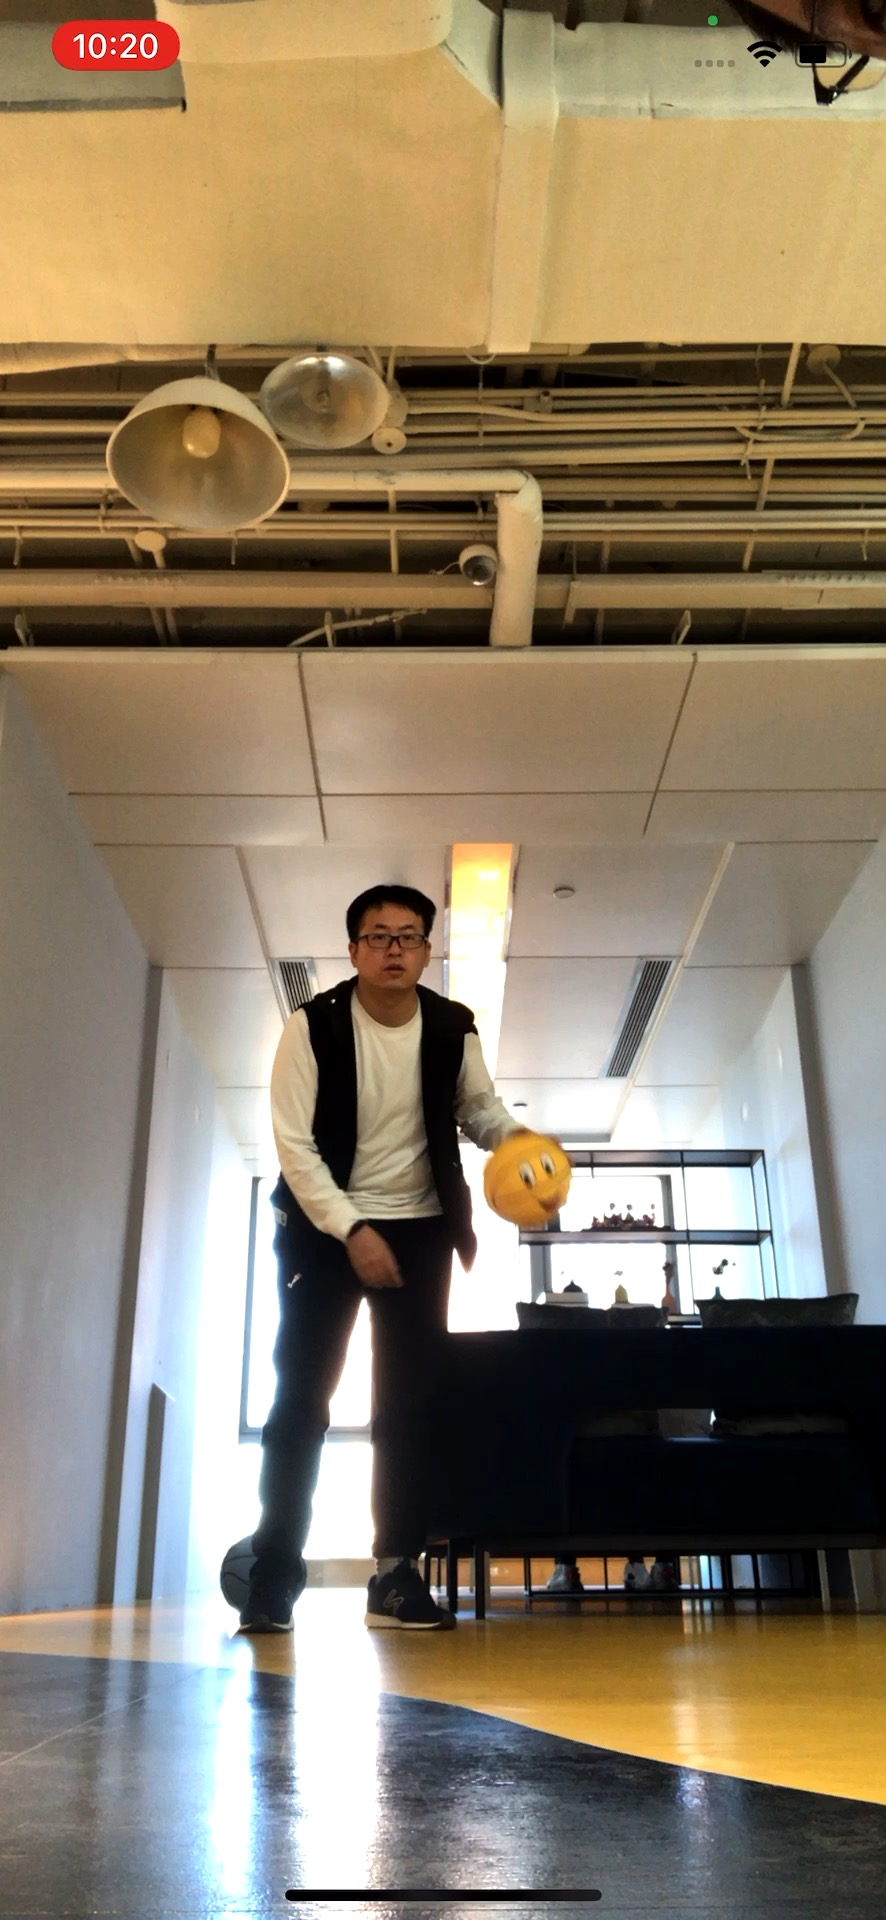ball: (485, 1133, 574, 1231)
